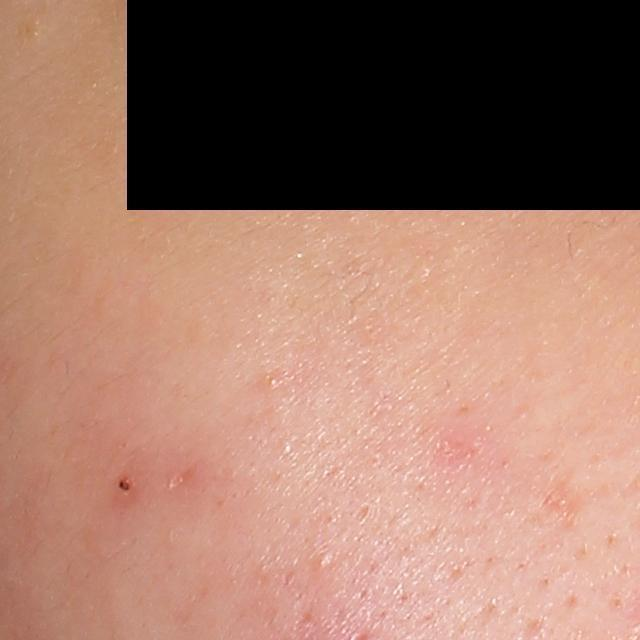comedo: (314, 547, 336, 569), (262, 367, 279, 387)
other: (118, 477, 131, 493)
